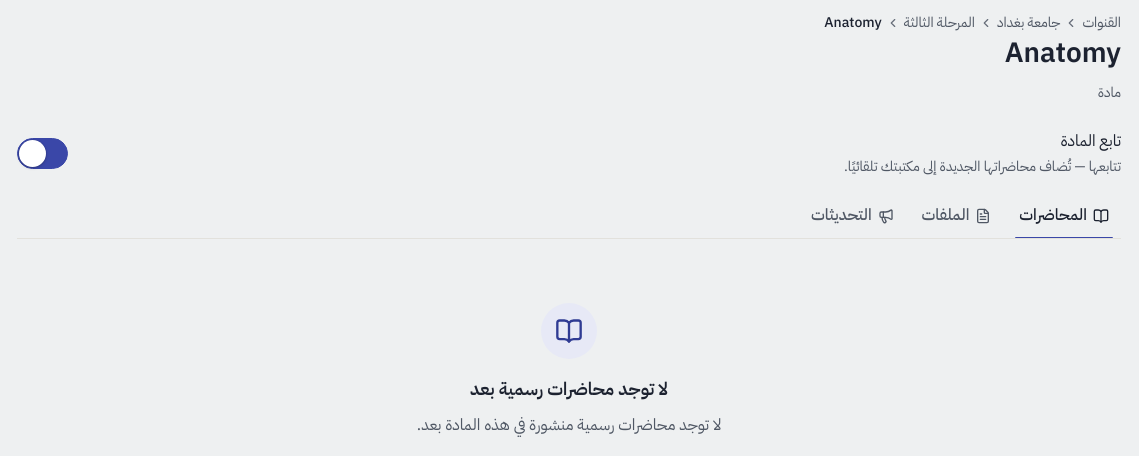
the subject page › «الملفات» groups attachments by kind with their uploader; «التحديثات» lists the subject’s events
expect the heading "Anatomy" is shown: met, box left=1005, top=32, right=1121, bottom=74
expect the text "لا توجد محاضرات رسمية منشورة في هذه المادة بعد." is shown: met, box left=417, top=412, right=721, bottom=439
Click the tab "الملفات". click: click(956, 216)
box: left=910, top=194, right=1003, bottom=238
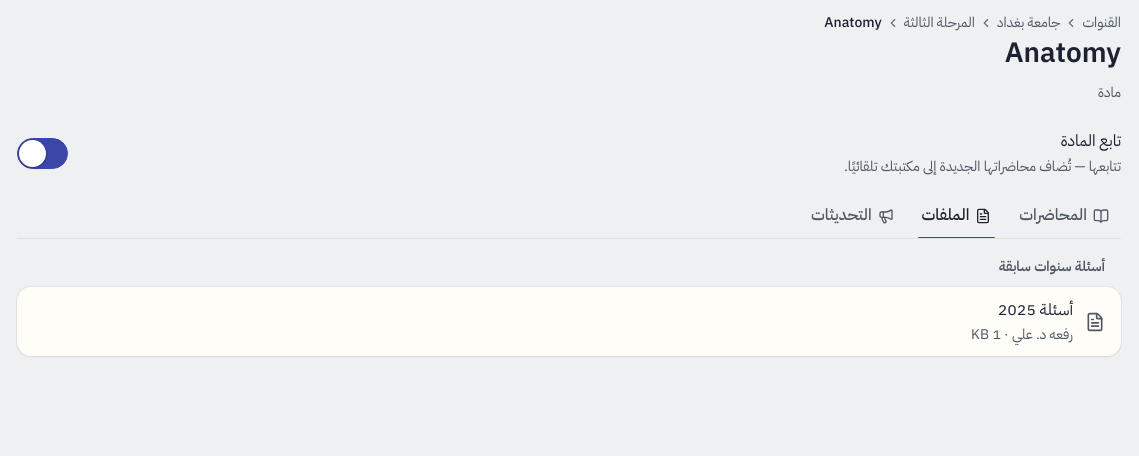
expect the heading "أسئلة سنوات سابقة" is shown: met, box left=999, top=256, right=1105, bottom=277
expect the text "رفعه د. علي · 1 KB" is shown: met, box left=971, top=324, right=1073, bottom=345
Click the tab "التحديثات". click: click(852, 216)
box: left=799, top=194, right=906, bottom=238
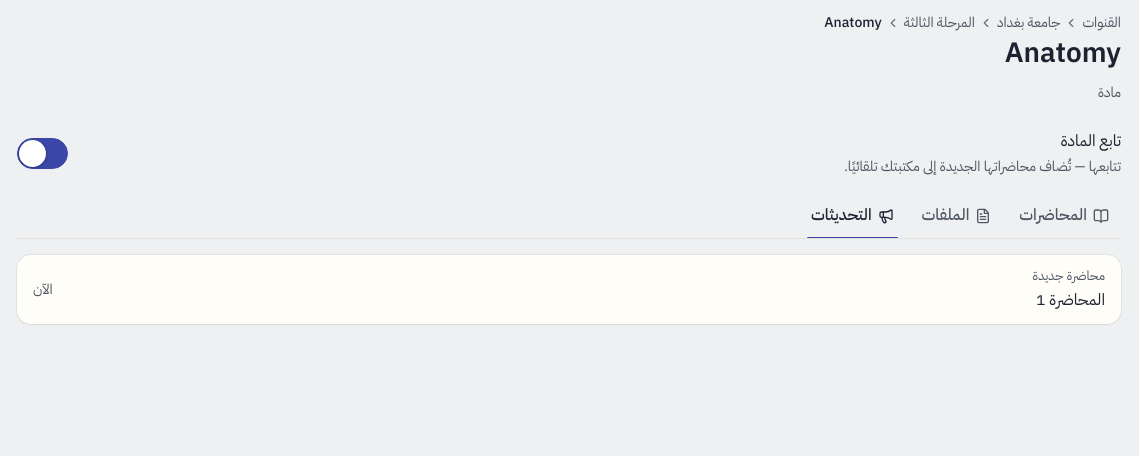
expect the text "المحاضرة 1" is shown: met, box left=1036, top=288, right=1105, bottom=312
expect the text "محاضرة جديدة" is shown: met, box left=1032, top=266, right=1105, bottom=285
